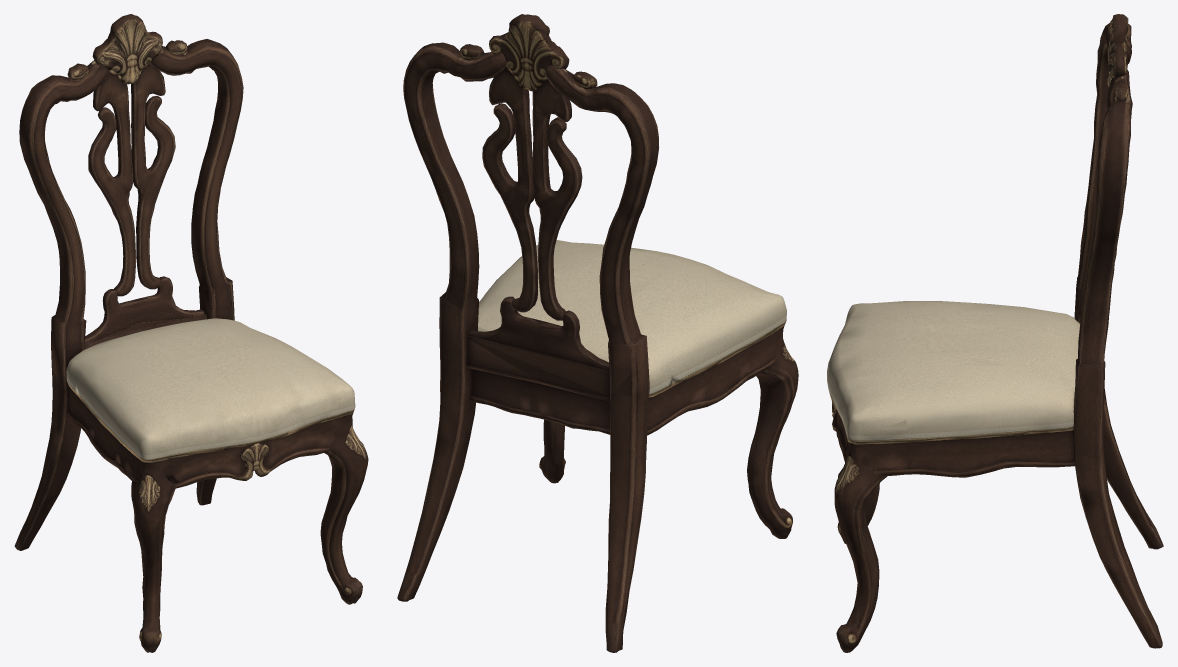
File: rrr_prop_chair_v1.glb
3 renders of one model, left to right at view 1: azimuth 30°, elevation 25°; view 2: azimuth 150°, elevation 25°; view 3: azimuth 270°, elevation 25°, orthographic. The views are drawn at different scales.
Parts seen in each view (by area): view 1: Mesh_0; view 2: Mesh_0; view 3: Mesh_0.
Part boxes in pixels (left/top/right/bottom): Mesh_0: left=14, top=14, right=368, bottom=652; Mesh_0: left=397, top=14, right=798, bottom=652; Mesh_0: left=827, top=14, right=1163, bottom=652.
Bounding box in the file's own units: 0.4599 × 1 × 0.5273.
1 material, 1 textured.
